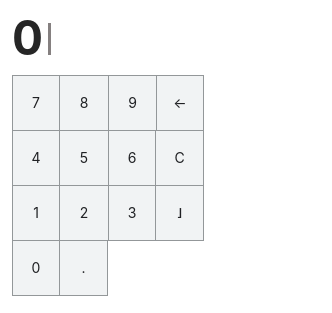
<NumpadwithScreen /> › Should show the number on screen when pressing buttons
Click the button with test id "num-1" at (36, 214), box left=12, top=186, right=60, bottom=241
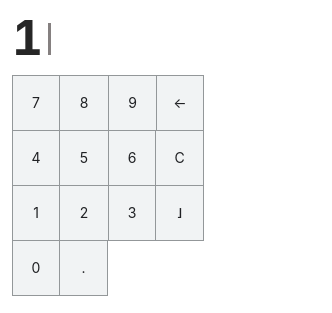
Expected: the text with test id "screen" reads "1", left=12, top=8, right=43, bottom=67
Click the button with test id "num-2" at (84, 214), box left=60, top=186, right=108, bottom=241
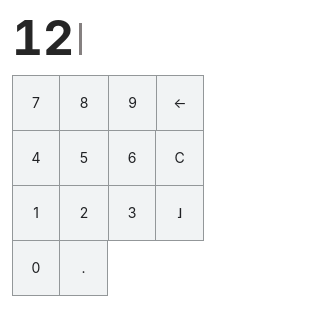
Expected: the text with test id "screen" reads "12", left=12, top=8, right=74, bottom=67
